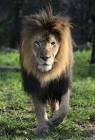lion: (17, 11, 74, 134)
